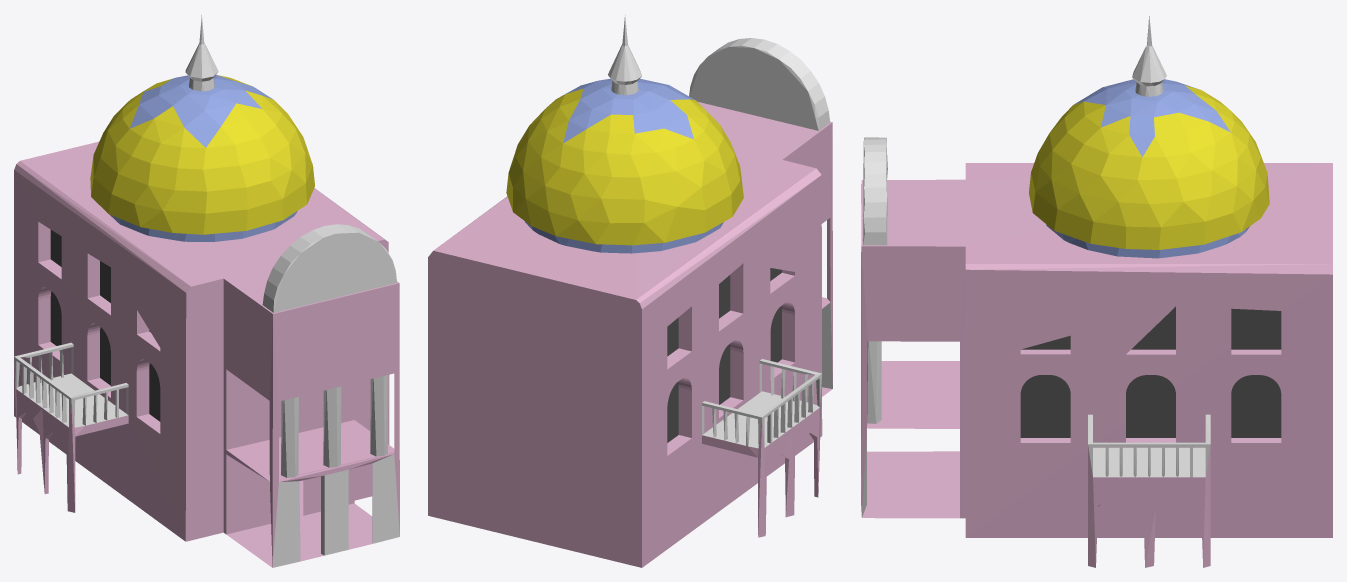
The model's file is teatro amazonas.fbx.
3 views of the same model, side by side, from view 1: azimuth 30°, elevation 25°; view 2: azimuth 150°, elevation 25°; view 3: azimuth 270°, elevation 25° (orthographic). The views are drawn at different scales.
Parts seen in each view (by area): view 1: Cube, Sphere, Cylinder, Cylinder.002, Cylinder.003, Cylinder.001, Cylinder.004; view 2: Cube, Sphere, Cylinder, Cylinder.004; view 3: Cube, Sphere, Cylinder, Cylinder.004, Cylinder.003.
Boxes of the visible parts, x1,y1,x2,y2 form: Cube: (14,141,399,567); Sphere: (90,75,314,241); Cylinder: (262,224,397,312); Cylinder.002: (323,386,341,467); Cylinder.003: (370,375,388,456); Cylinder.001: (281,397,298,477); Cylinder.004: (185,15,218,91); Cube: (428,101,832,567); Sphere: (506,78,743,253); Cylinder: (689,38,830,130); Cylinder.004: (608,14,641,95); Cube: (861,163,1332,567); Sphere: (1029,79,1269,258); Cylinder: (863,137,887,245); Cylinder.004: (1132,16,1166,96); Cylinder.003: (867,341,881,423).
Bounding box in the file's own units: 1049 × 1386 × 1259.
